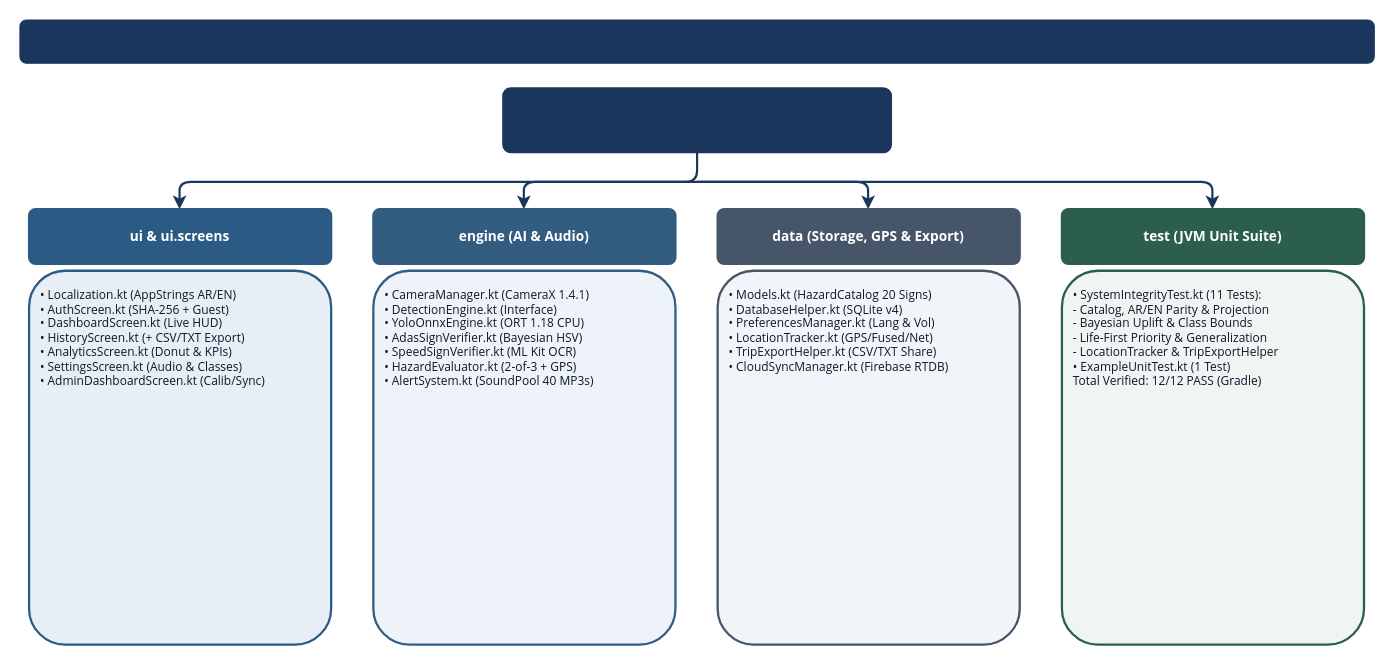
Image size: 1394x666. Some labels were removed from this diagram. The centre of each missing label's shape, as x and y in pixels:
com.example.vision (MainActivity.kt): (696,120)
Verified Kotlin Source Package Hierarchy (D:\vision): (696,41)
